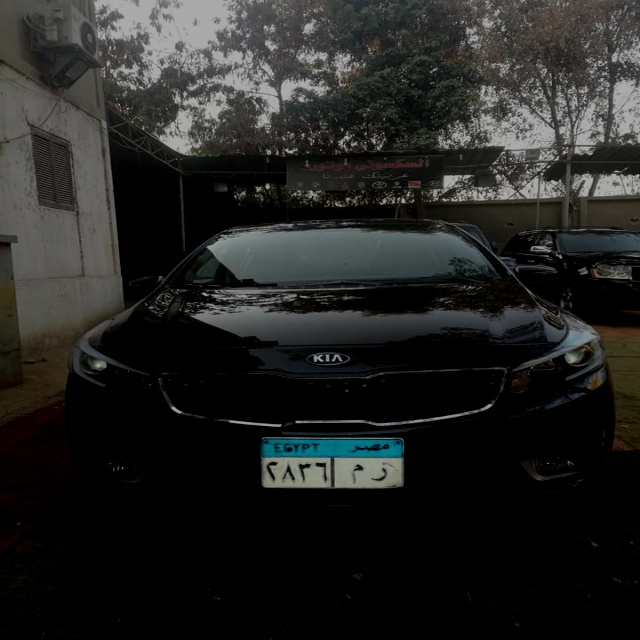License Plate: (257, 435, 407, 492)
